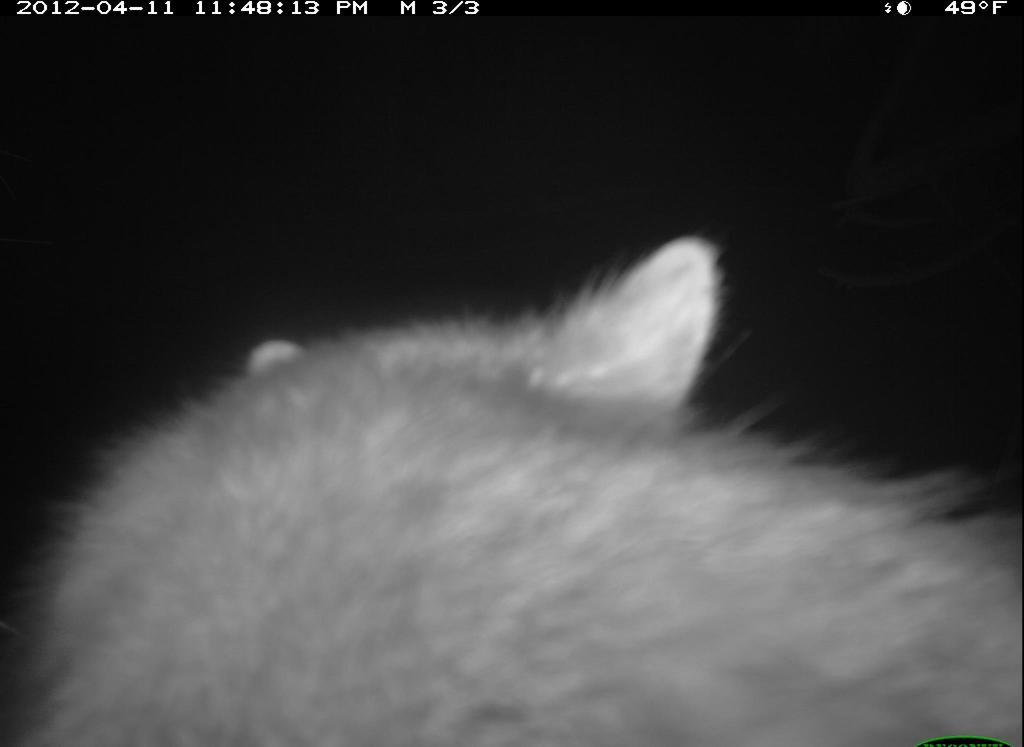raccoon: (9, 222, 1022, 747)
